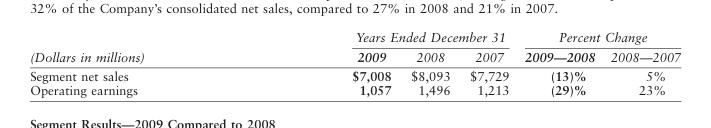table: (29, 29, 680, 97)
table column: (29, 29, 247, 97), (247, 29, 400, 97), (516, 29, 602, 97), (602, 29, 680, 97), (400, 29, 459, 97), (459, 29, 516, 97)
table column header: (29, 29, 680, 65)
table row: (29, 46, 680, 65), (29, 29, 680, 46), (29, 65, 680, 82), (29, 82, 680, 97)
table spanning cell: (29, 29, 247, 65), (247, 29, 516, 46), (516, 29, 680, 46)
